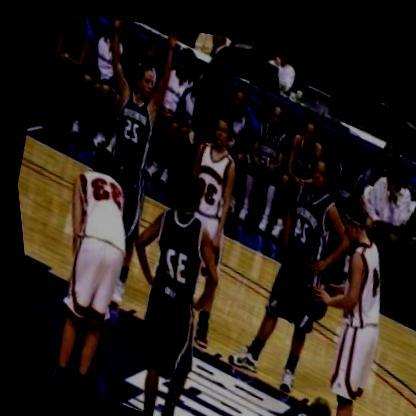basketball: (288, 268, 332, 316)
